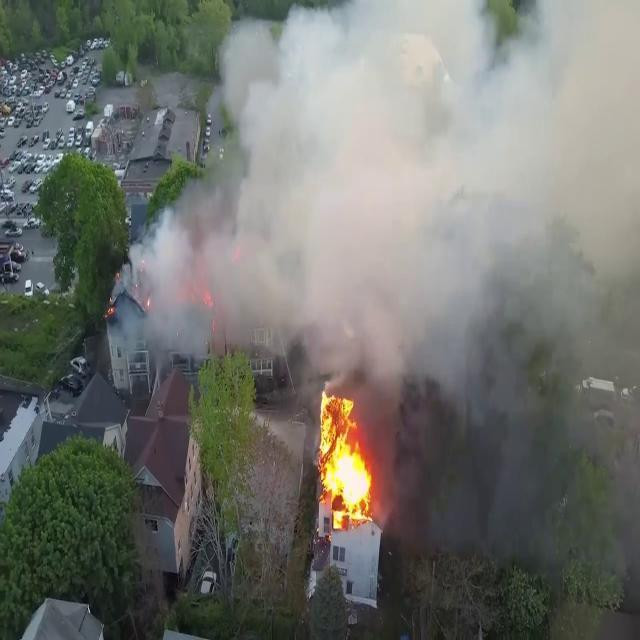Fire: (314, 387, 376, 525)
Smoke: (129, 0, 640, 445)
